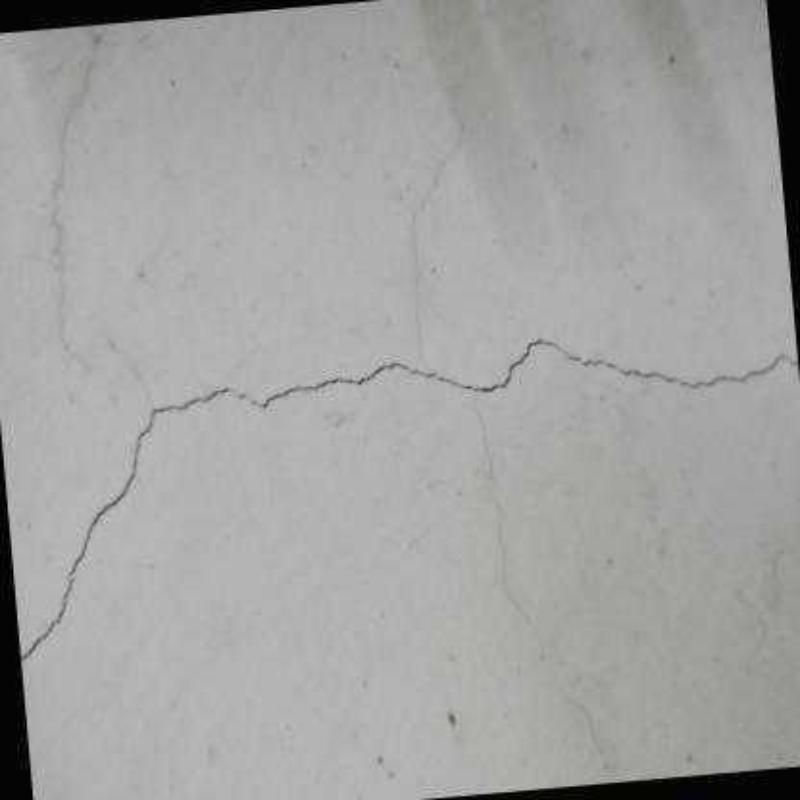pothole: (21, 339, 799, 664)
